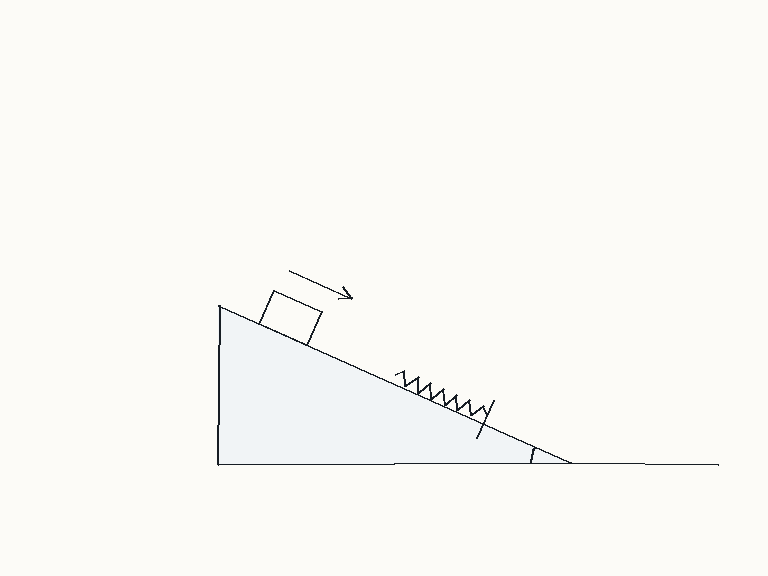block: (257, 288, 323, 347)
ramp: (216, 304, 573, 465)
spring: (393, 369, 488, 418)
